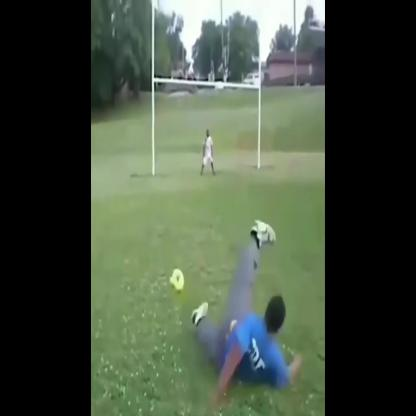Fall_Down: (189, 218, 304, 416)
